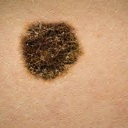Melanoma: (19, 21, 85, 81)
